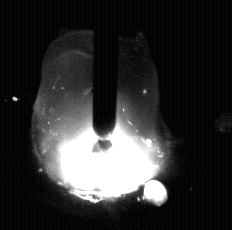arame: (93, 0, 118, 138)
poca: (31, 0, 167, 230)
